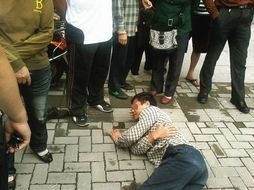falling: (98, 80, 212, 190)
